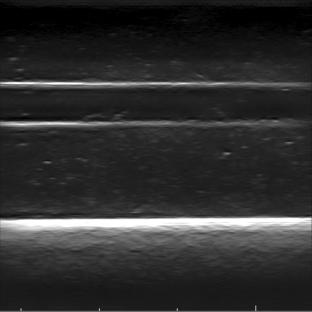vessel: (3, 79, 307, 129)
